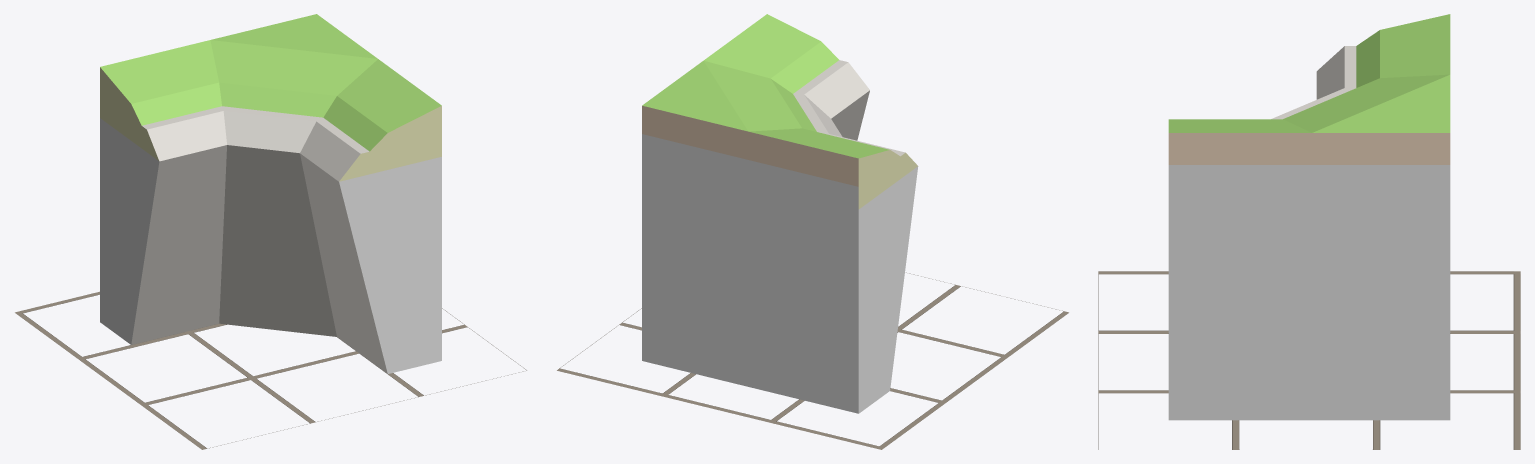
File: Basic_Curve_Inner_2x2_Narrow_Top.glb
The picture shows the model from 3 angles, left to right: view 1: azimuth 30°, elevation 25°; view 2: azimuth 150°, elevation 25°; view 3: azimuth 270°, elevation 25°; orthographic projection. The views are drawn at different scales.
Parts seen in each view (by area): view 1: Basic_Curve_Inner_2x2_Narrow_Top, Floor; view 2: Basic_Curve_Inner_2x2_Narrow_Top, Floor; view 3: Basic_Curve_Inner_2x2_Narrow_Top, Floor.
Boxes of the visible parts, <box> form: Basic_Curve_Inner_2x2_Narrow_Top: <box>100,14,441,373</box>; Floor: <box>15,291,526,449</box>; Basic_Curve_Inner_2x2_Narrow_Top: <box>642,14,918,413</box>; Floor: <box>557,272,1068,449</box>; Basic_Curve_Inner_2x2_Narrow_Top: <box>1168,14,1450,420</box>; Floor: <box>1098,271,1520,449</box>.
Bounding box in the file's own units: 300 × 225 × 300.
6 materials, 1 textured.
